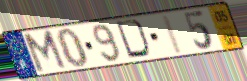0: (54, 27, 91, 69)
5: (182, 8, 217, 52)
9: (91, 23, 123, 64)
D: (114, 18, 154, 60)
I: (160, 13, 185, 56)
M: (21, 28, 70, 76)
